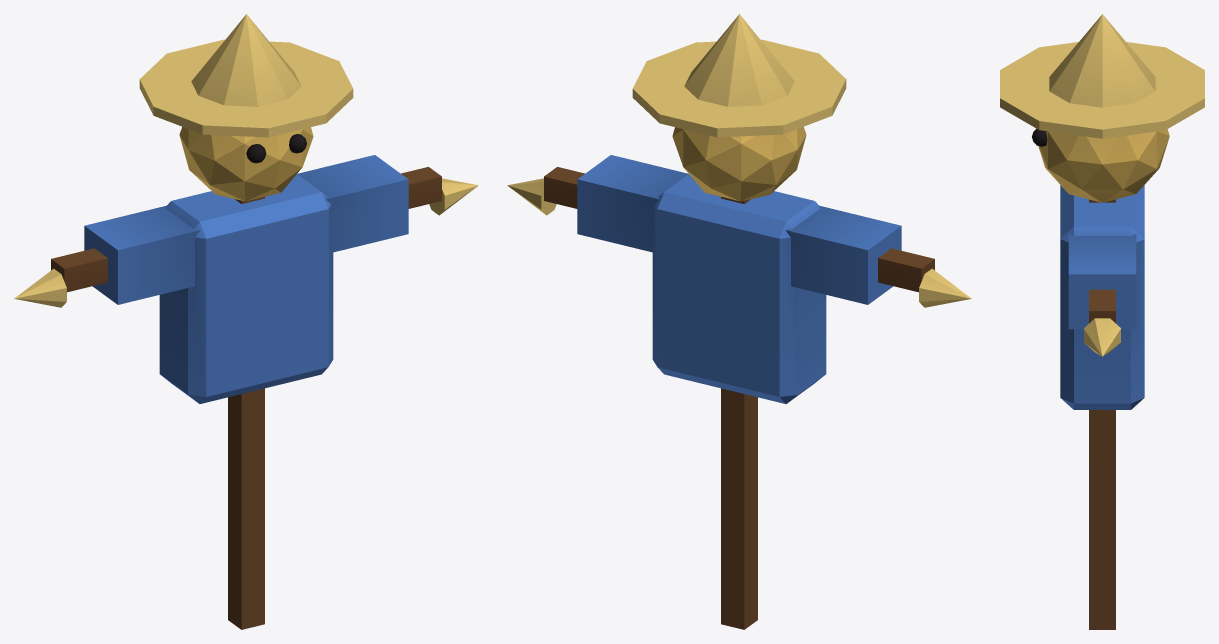
Rendered from scarecrow.glb.
3 renders of one model, left to right at view 1: azimuth 30°, elevation 25°; view 2: azimuth 150°, elevation 25°; view 3: azimuth 270°, elevation 25°, orthographic.
Visible parts, largest first — view 1: scarecrow; view 2: scarecrow; view 3: scarecrow.
Boxes of the visible parts, x1=… form: scarecrow: x1=14, y1=14, x2=478, y2=629; scarecrow: x1=507, y1=14, x2=971, y2=629; scarecrow: x1=1000, y1=14, x2=1204, y2=629.
Size of the model in its own units: 1.6 by 2 by 0.6087.
